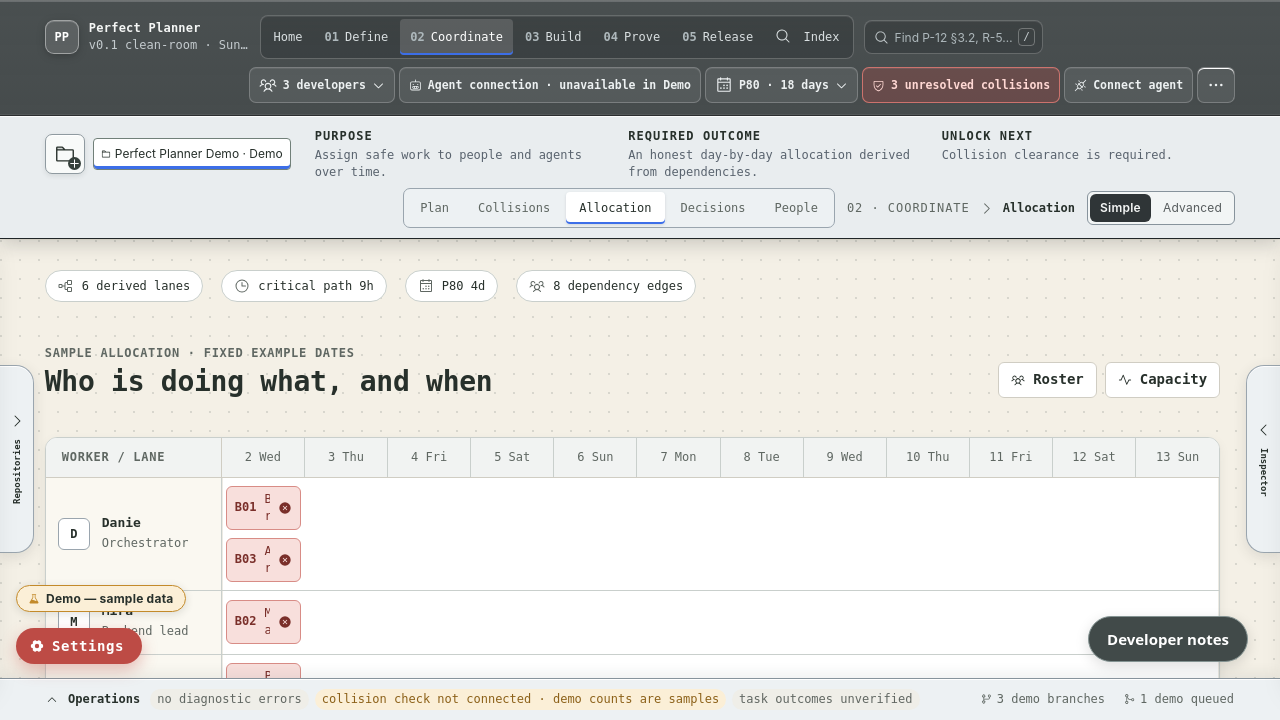
demo stage controls › Allocation: Roster and Capacity open the inspector
Step 1. Click the button "Roster" → {"x": 1048, "y": 380}, box x1=998 y1=362 x2=1097 y2=398
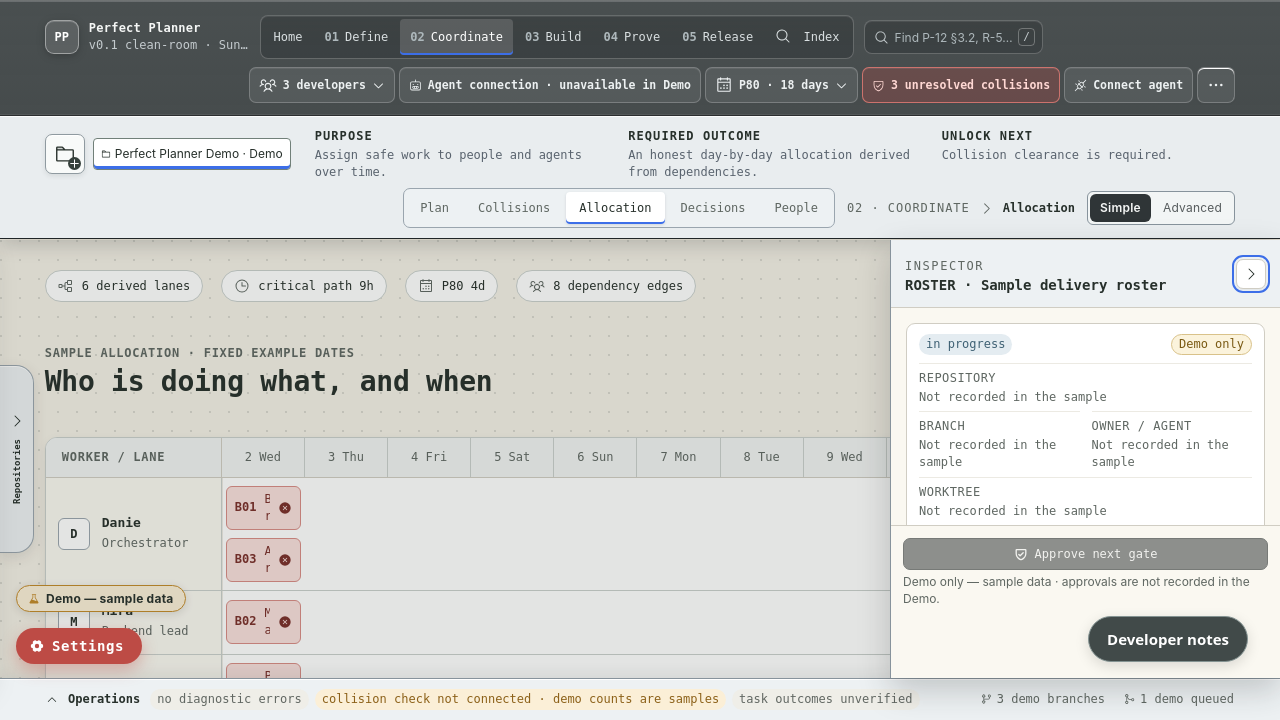
Expected: the heading "ROSTER · Sample delivery roster" is shown, x1=905 y1=277 x2=1166 y2=293
